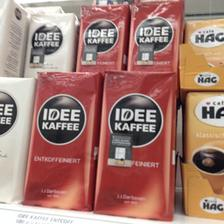Kaffee: (93, 68, 178, 220), (24, 69, 100, 211), (127, 1, 182, 69), (75, 2, 125, 71), (24, 10, 76, 76)
